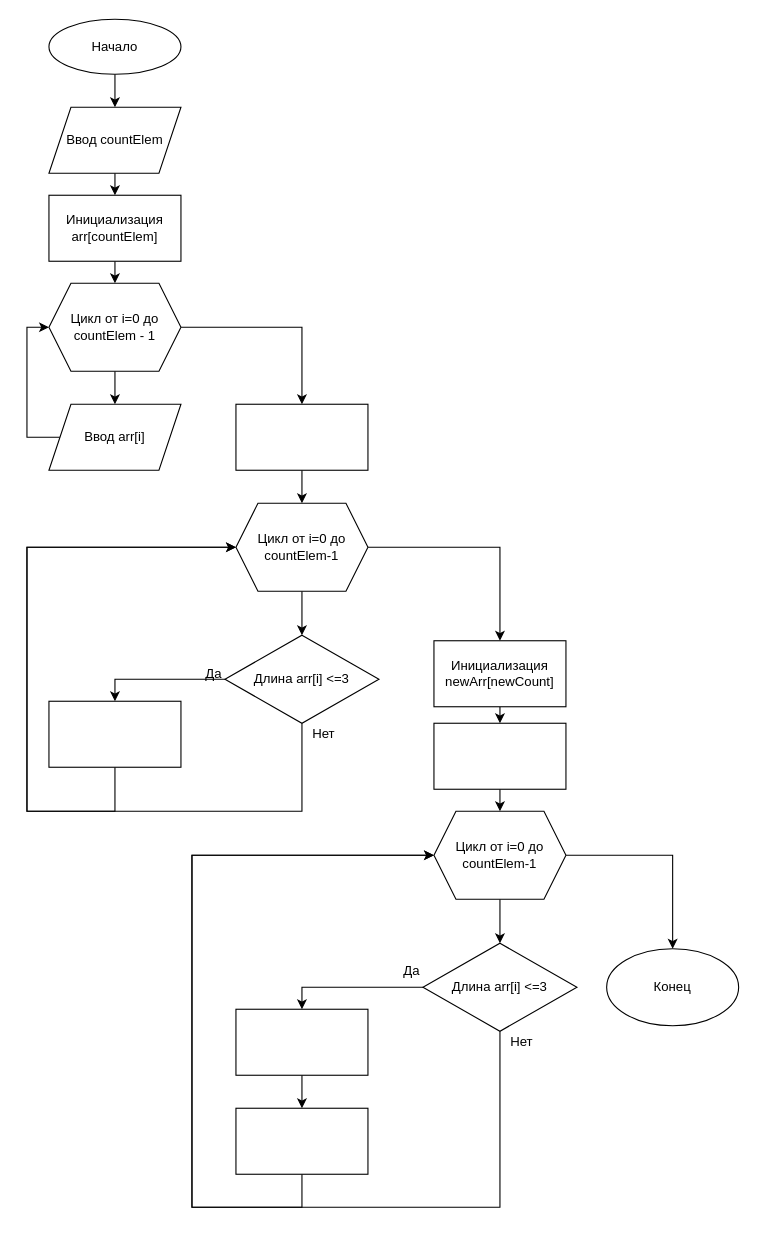
This 758x1235 diagram has some shape labels left out. The centre of each missing label's shape, as x and y in pixels:
j = 0: [499,755]
j = j + 1: [301,1140]
newArr[j] = arr[i]: [301,1041]
newCount = 0: [301,436]
newCount = newCount+1: [114,733]
